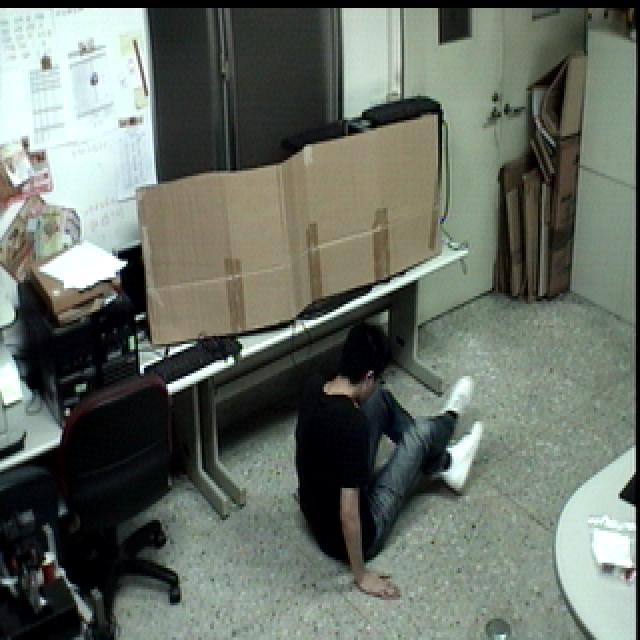sit: (285, 308, 488, 606)
